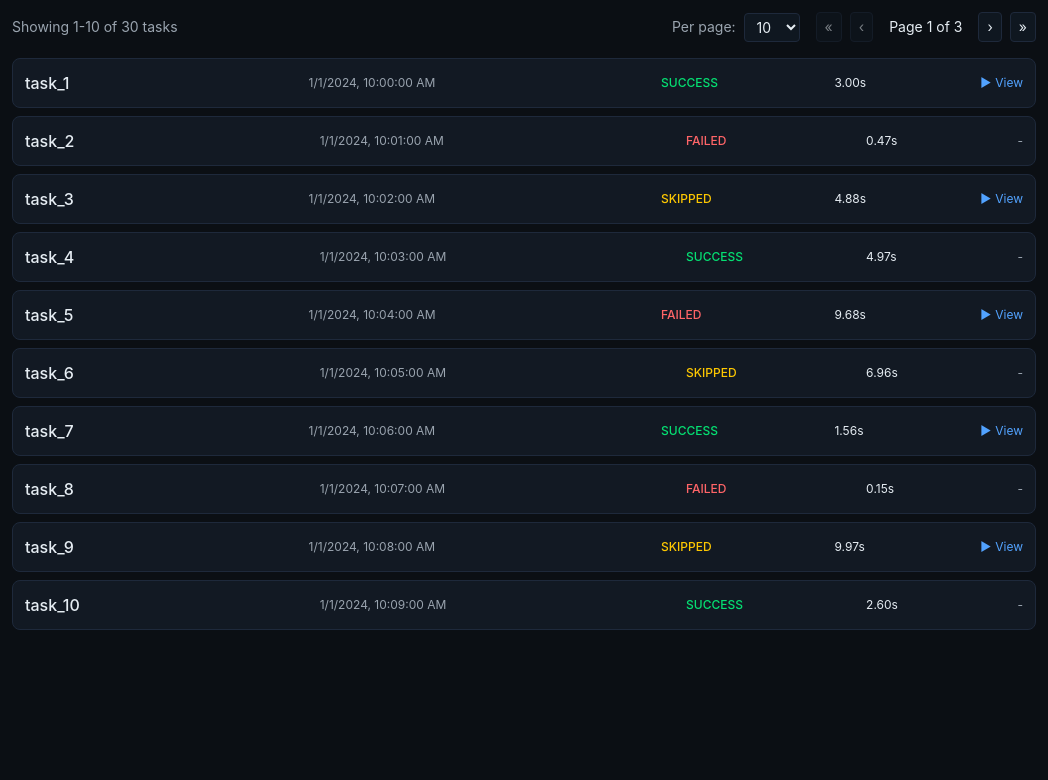
Scenario: ServiceTasksTable › Bug #75: Pagination functionality › navigates to first page
Go to page 3
Click the button titled "Next page": point(990, 27) [978,12,1002,42]
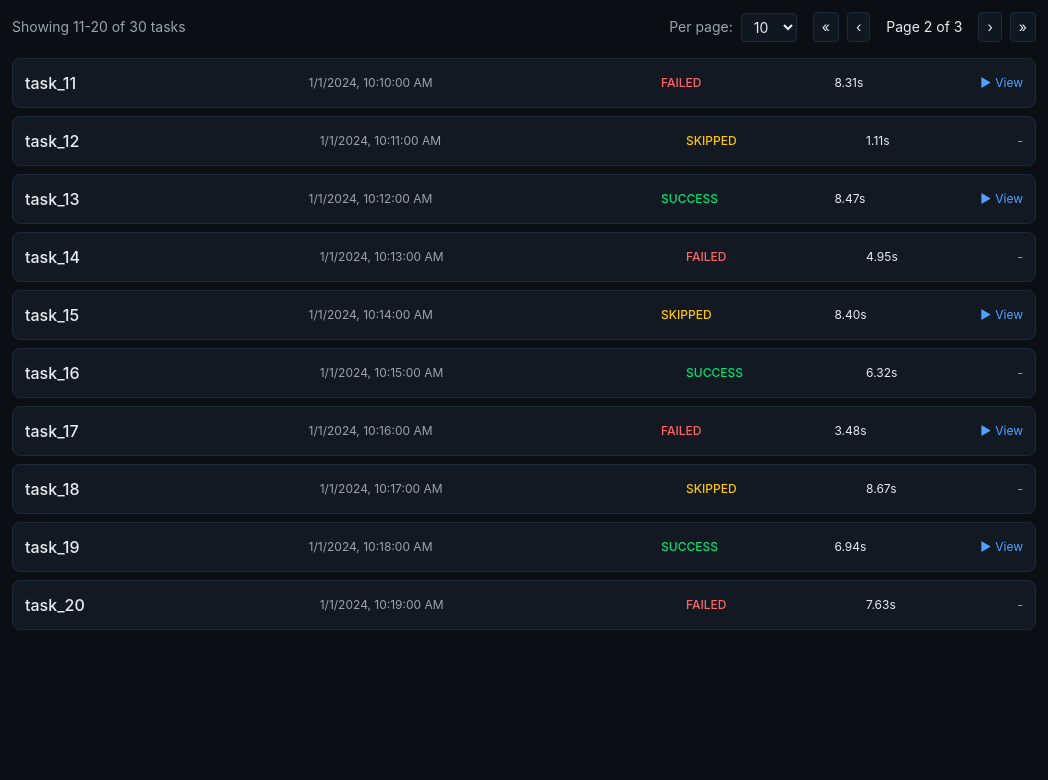
Click the button titled "Next page": point(990, 27) [978,12,1002,42]
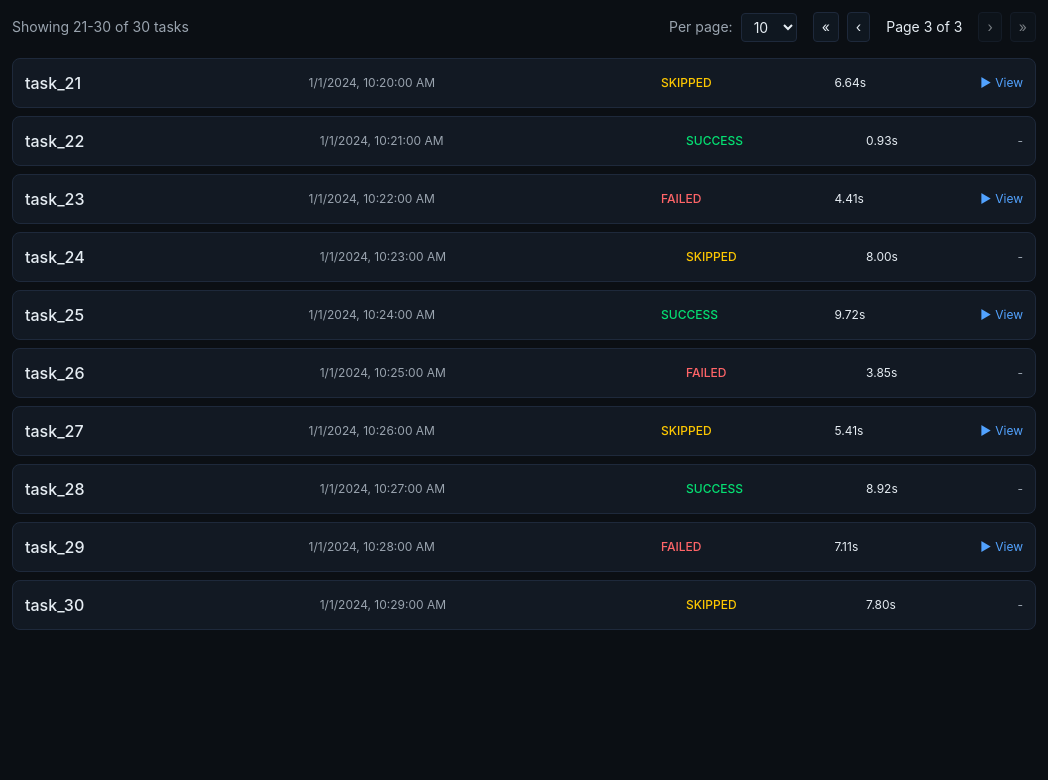
Click first page button
Click the button titled "First page": point(826, 27) [813,12,839,42]
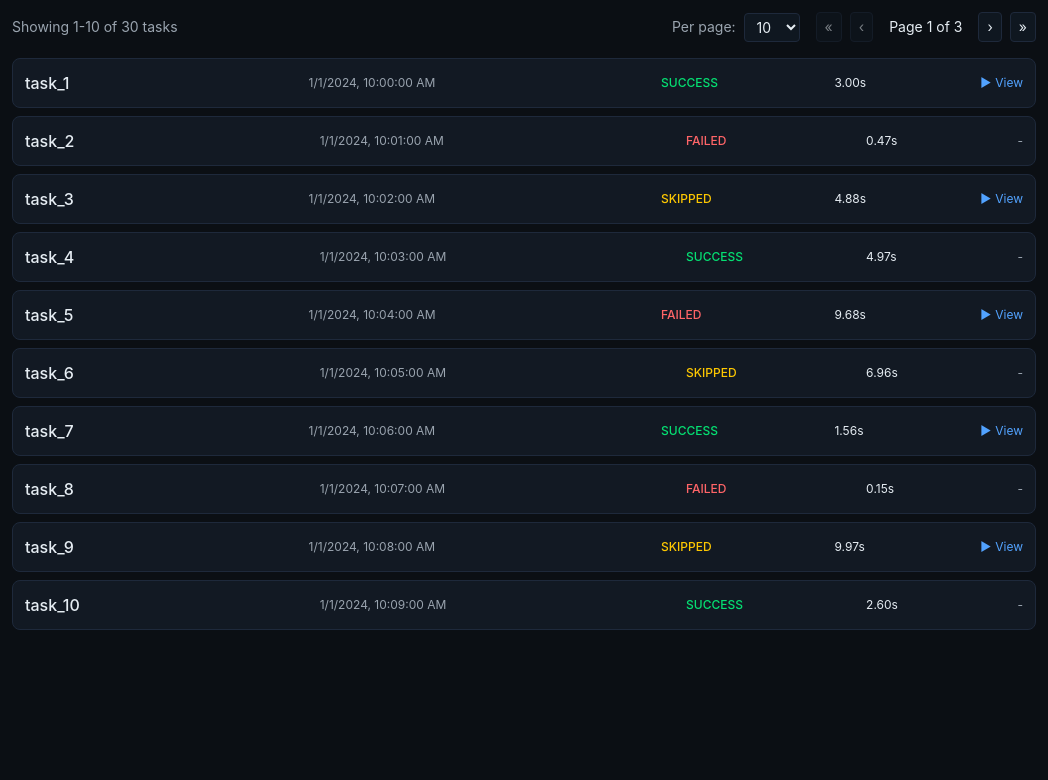
Now the text "Page 1 of 3" is shown, box [889,18,962,35]
